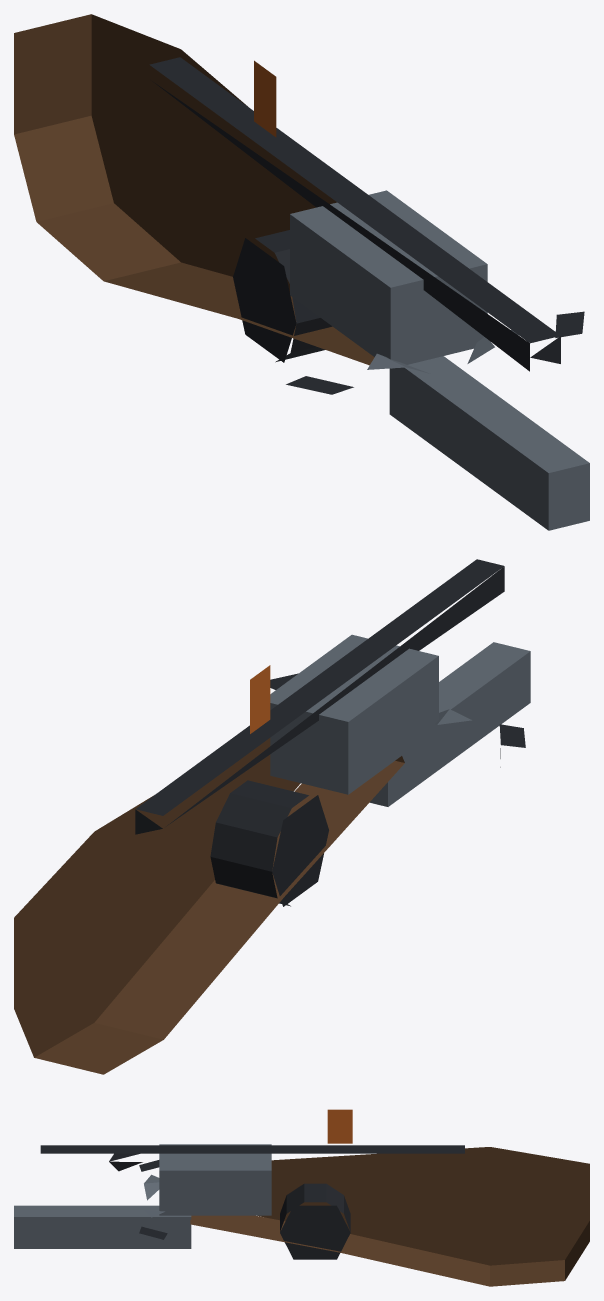
File: heavy-bowcaster.lod.glb
The picture shows the model from 3 angles, top to bottom: view 1: azimuth 30°, elevation 25°; view 2: azimuth 150°, elevation 25°; view 3: azimuth 270°, elevation 25°; orthographic projection. The views are drawn at different scales.
Parts seen in each view (by area): view 1: m; view 2: m; view 3: m.
Boxes of the visible parts, x1=… form: m: x1=14, y1=14, x2=589, y2=530; m: x1=14, y1=559, x2=530, y2=1074; m: x1=14, y1=1109, x2=589, y2=1286.
Bounding box in the file's own units: 0.3196 × 0.2765 × 0.85.
